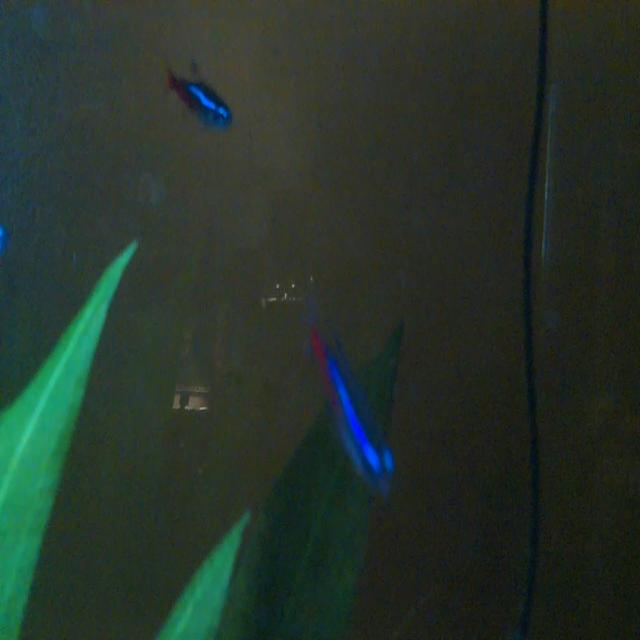fish: (280, 311, 418, 511), (150, 49, 246, 153)
